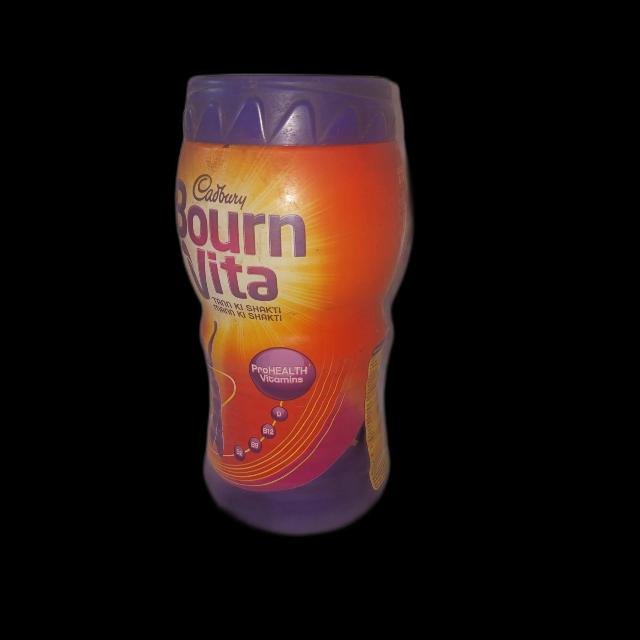Cadbury Bournvita Chocolate Health Drink-1kg-: (170, 63, 414, 534)
